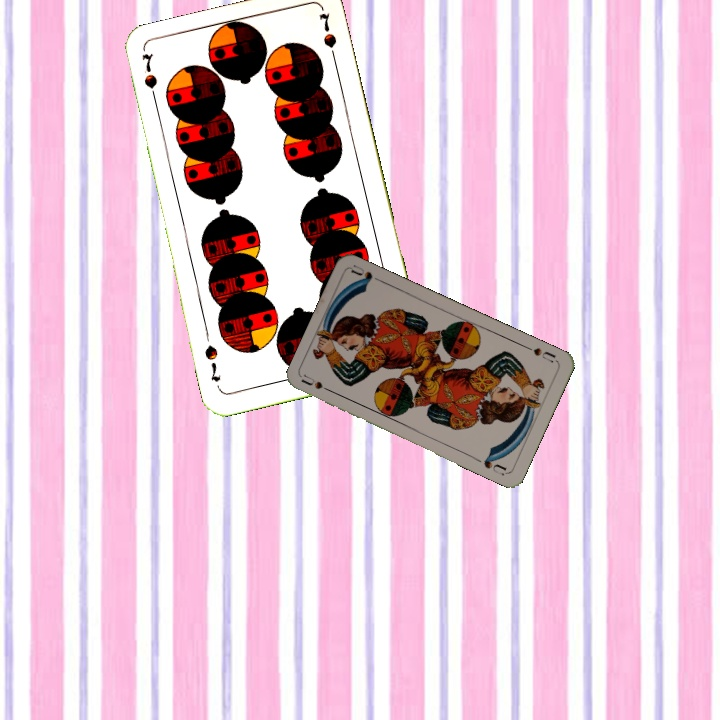S7: (138, 49, 160, 108)
SU: (298, 371, 338, 396), (521, 342, 558, 365)
